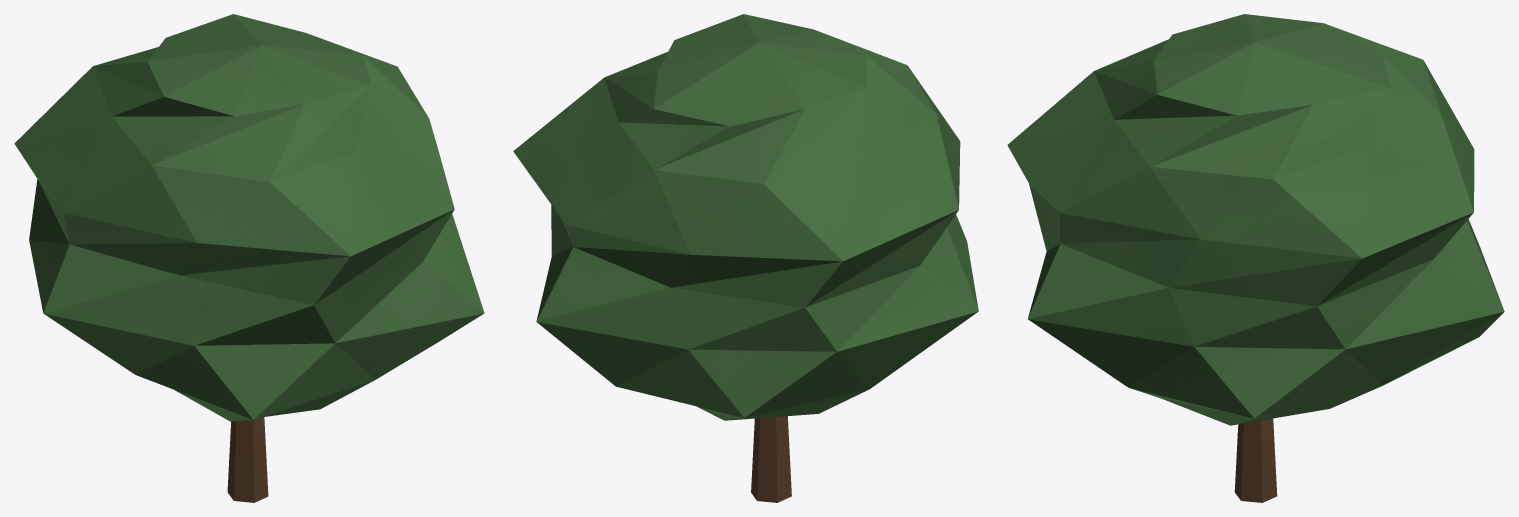
The model's file is far_jura_broad.fbx.
The picture shows the model from 3 angles, left to right: view 1: azimuth 30°, elevation 25°; view 2: azimuth 150°, elevation 25°; view 3: azimuth 270°, elevation 25°; orthographic projection. The views are drawn at different scales.
Visible parts, largest first — view 1: far_jura_broad__Card; view 2: far_jura_broad__Card; view 3: far_jura_broad__Card.
Boxes of the visible parts, x1,y1,x2,y2 form: far_jura_broad__Card: [14, 14, 484, 502]; far_jura_broad__Card: [513, 14, 978, 502]; far_jura_broad__Card: [1007, 14, 1504, 502].
Size of the model in its own units: 54 by 56 by 55.
Materials: 1 (1 with a texture image).
